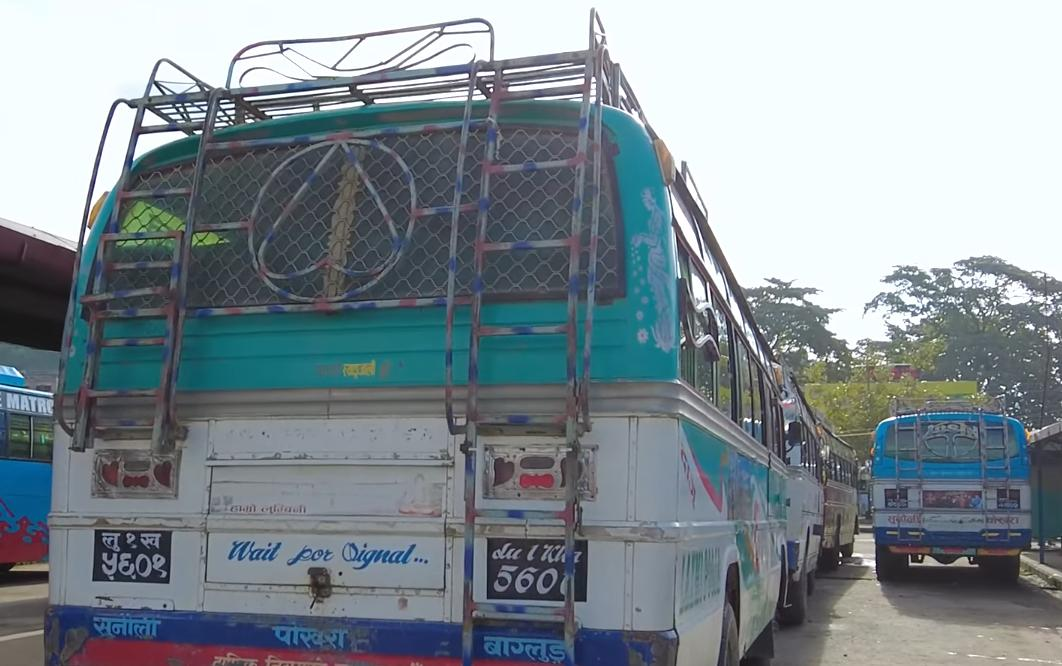bus: (50, 20, 798, 666), (868, 392, 1039, 582)
